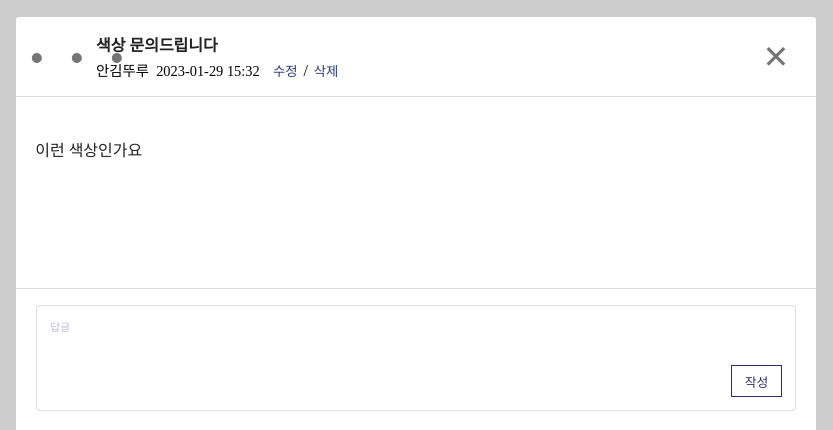
Scenario: InquiryModal › 상품문의 수정 › 상뭄문의 제목을 1글자 미만으로 수정하고 제출 버튼을 클릭했을 경우 › 문의내용이 정확하지 않습니다 메시지를 볼 수 있다
The image size is (833, 430).
(page scrolled)
Click the button "수정" at (285, 71), box x1=267 y1=60 x2=303 y2=81
(page scrolled)
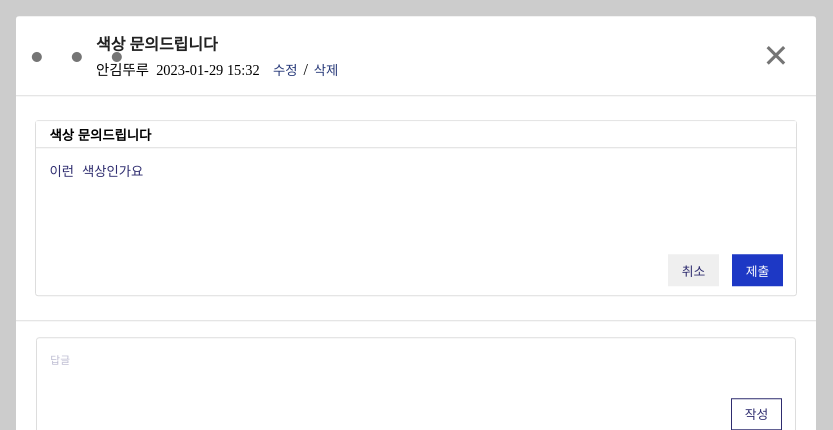
Clear the field named "editTitle" at (416, 135), box x1=36 y1=122 x2=796 y2=148
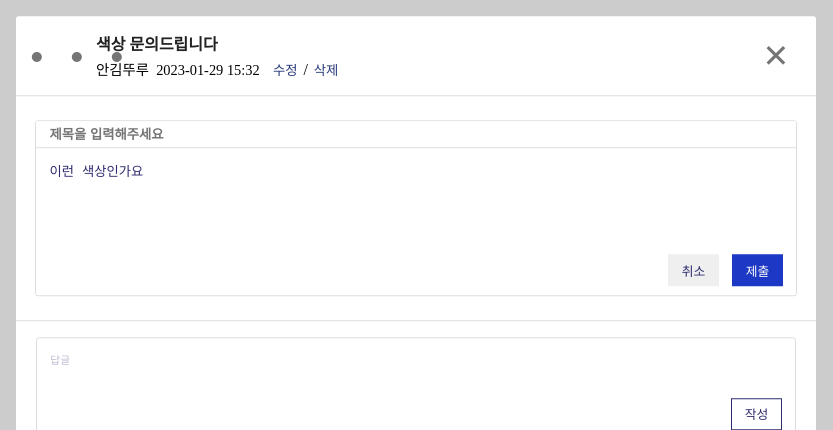
Click the button "제출" at (757, 271), box x1=732 y1=255 x2=783 y2=287
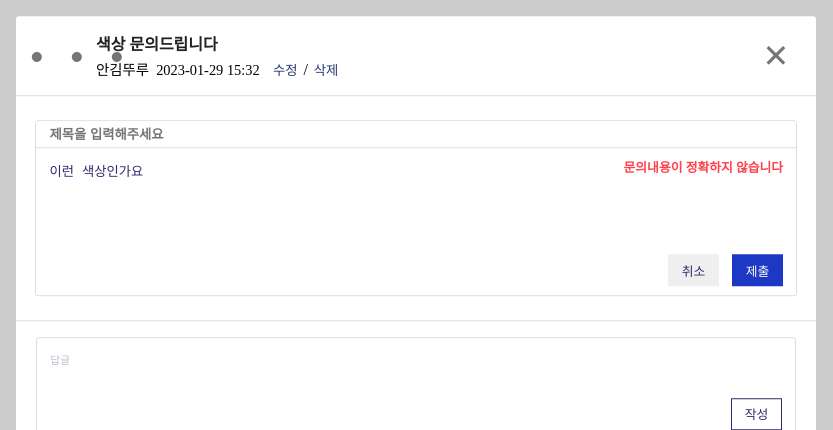
Expected: the text "문의내용이 정확하지 않습니다" is shown, x1=624 y1=157 x2=783 y2=176
